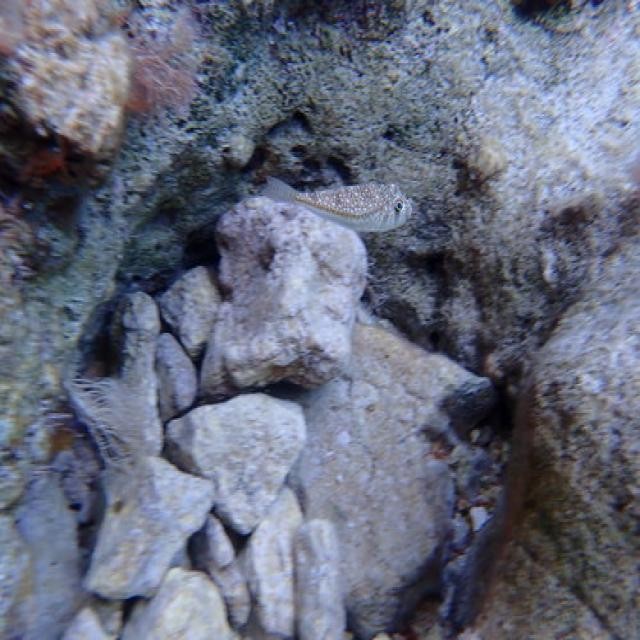Balik: (263, 178, 412, 232)
